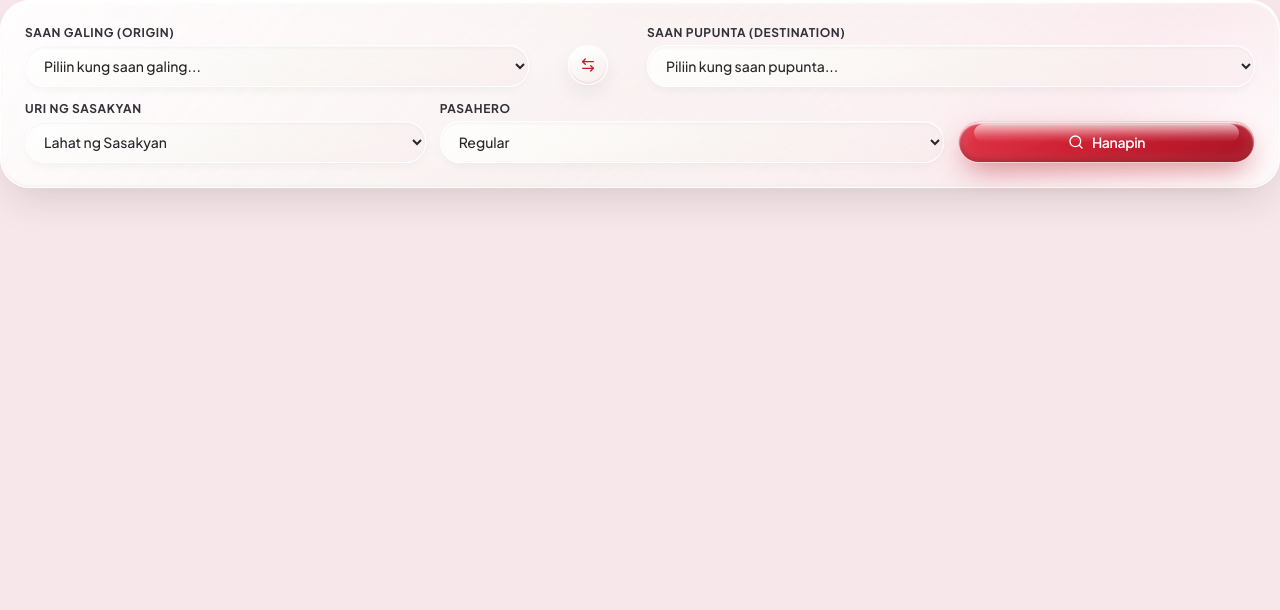
Test case: Pamasahe Tracker Core UI & Role Guards › displays explicit empty notice when searching a route with no cached or published fare estimate
Select "Calapan City" in the dropdown named "Origin municipality" at (277, 66), box [25,45,529,87]
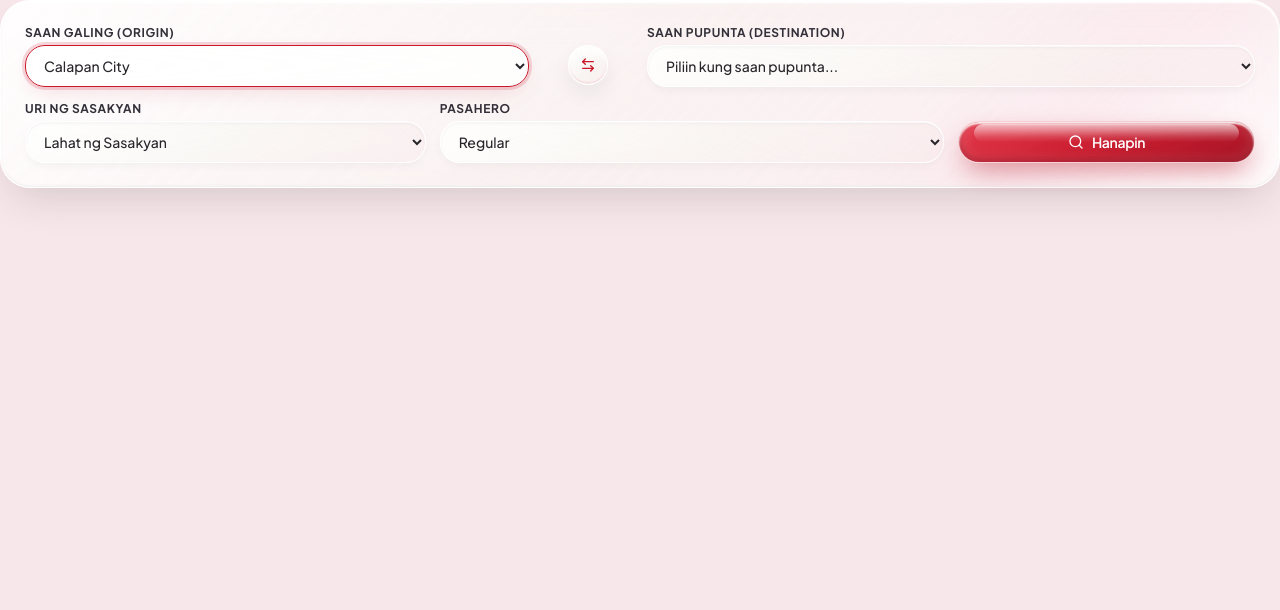
Select "Naujan" in the dropdown named "Destination municipality" at (951, 66), box [647,45,1255,87]
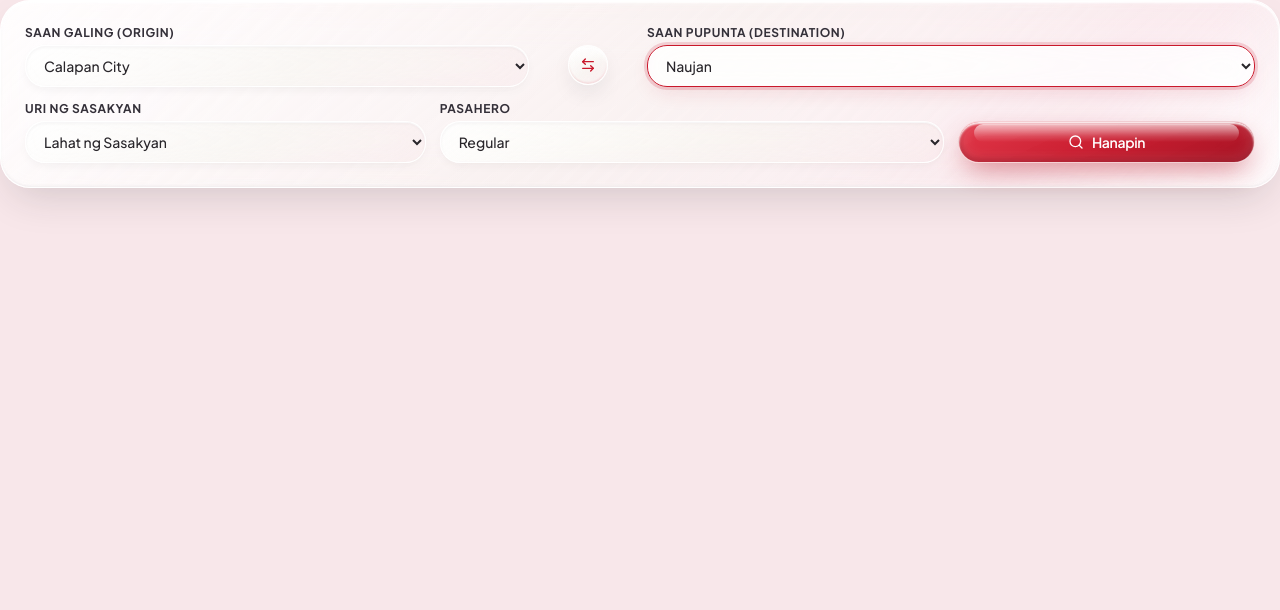
Click the button "Hanapin" at (1106, 142), box [958,121,1255,163]
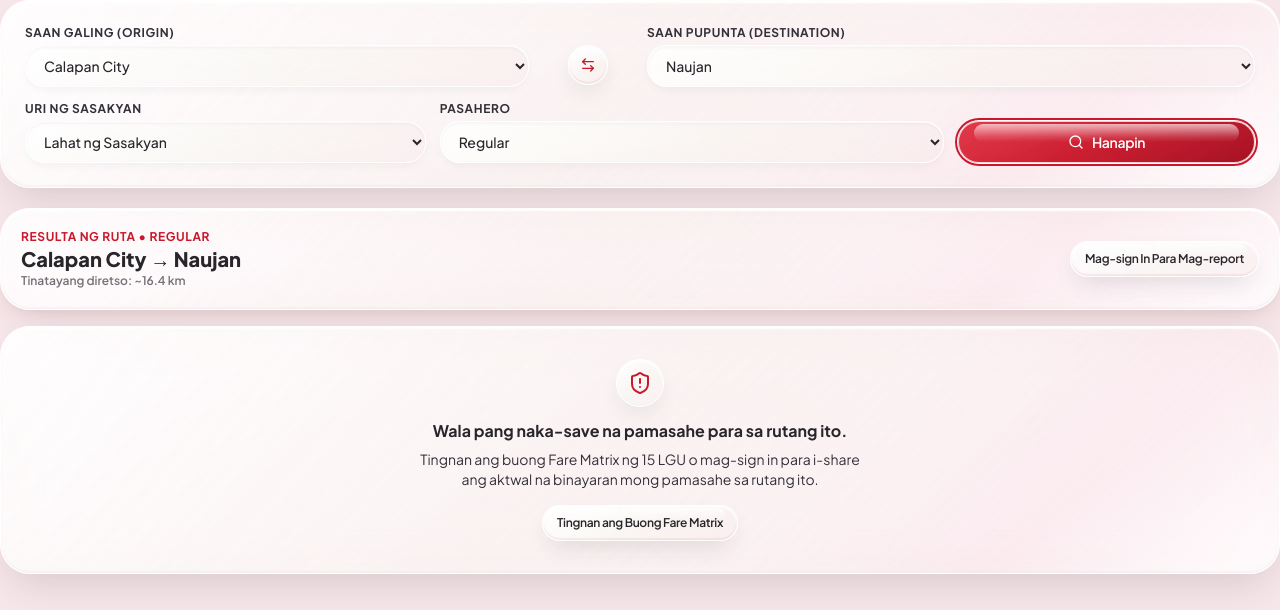
Expected: the heading "Wala pang naka-save na pamasahe para sa rutang ito." is shown, [433,420,847,441]
